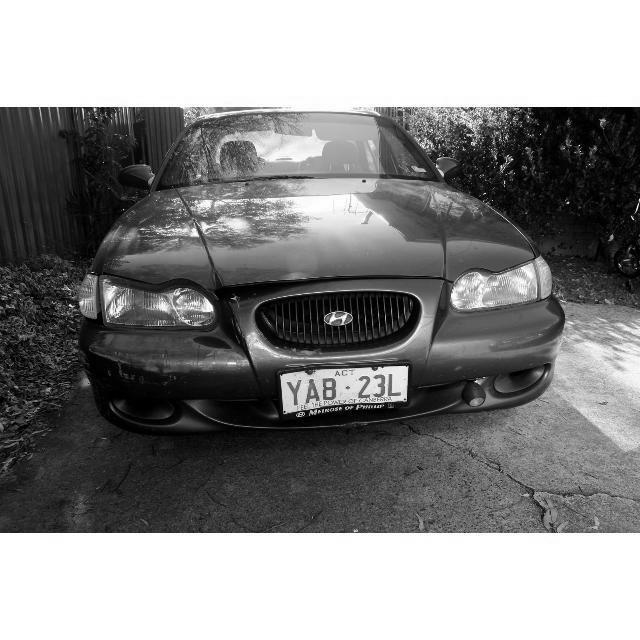front-bumper-dent: (85, 326, 341, 433)
